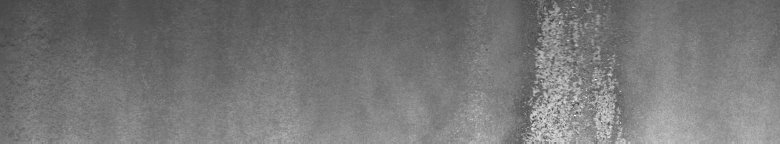hc: (524, 9, 618, 136)
